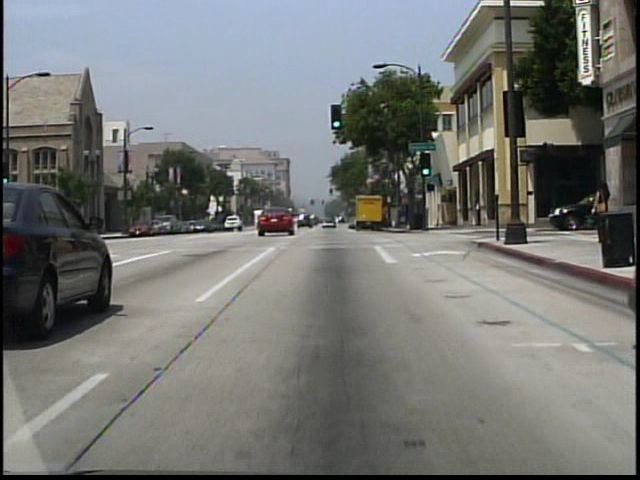person: (587, 176, 611, 245), (473, 199, 482, 230)
